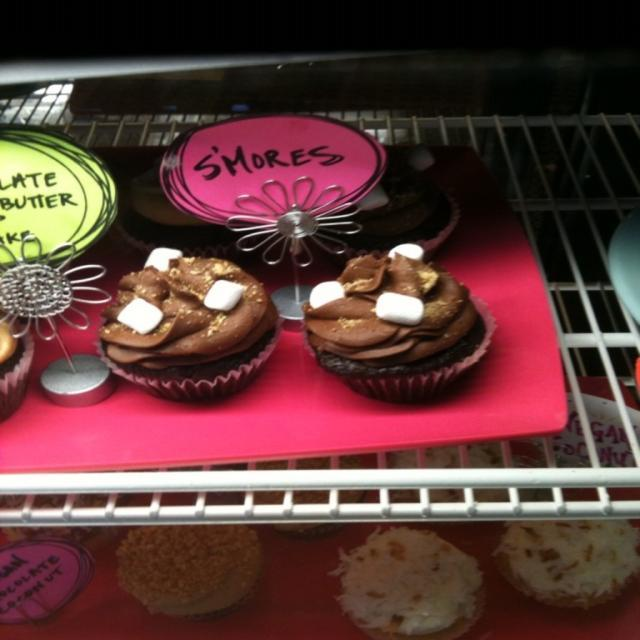Muffin: (300, 241, 496, 401), (89, 248, 279, 404), (330, 525, 496, 639), (318, 140, 466, 260), (113, 519, 265, 619), (486, 520, 638, 616), (112, 170, 238, 258), (240, 454, 371, 534), (0, 492, 123, 543), (0, 306, 38, 420)
